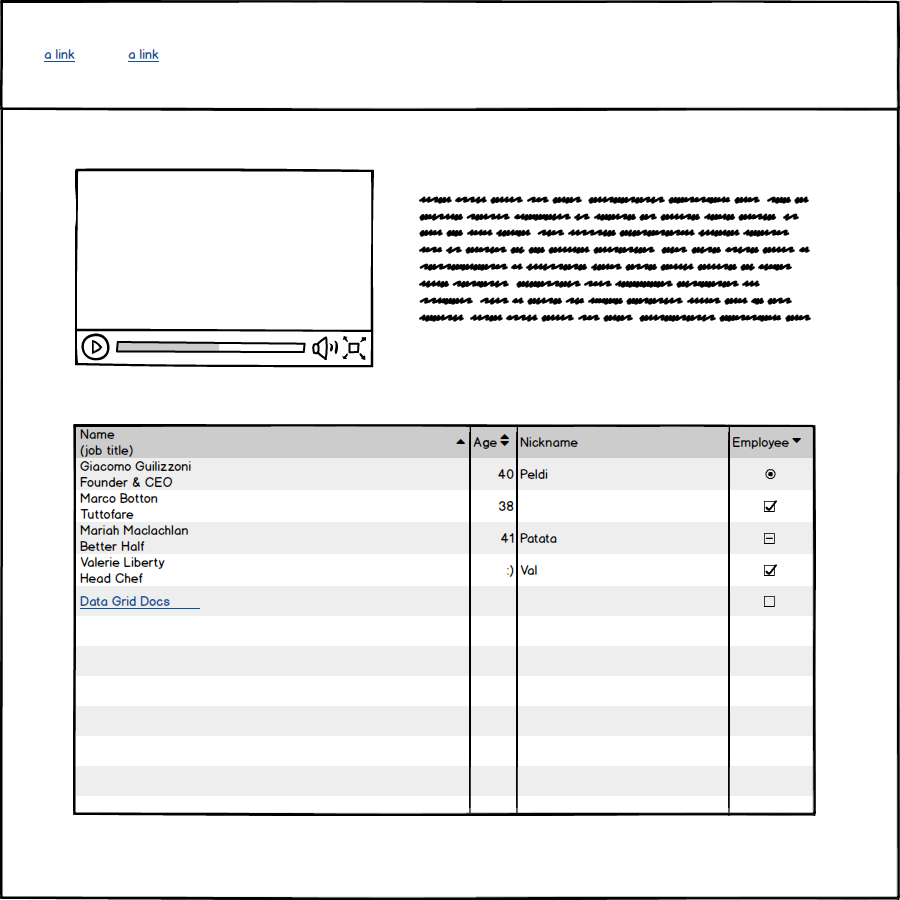navlink: (117, 38, 172, 69), (33, 36, 83, 69)
p: (408, 185, 826, 340)
table: (68, 418, 823, 825)
video: (68, 162, 383, 374)
